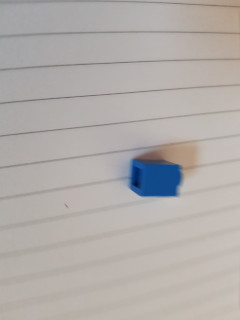1x1 blue: (126, 156, 186, 200)
